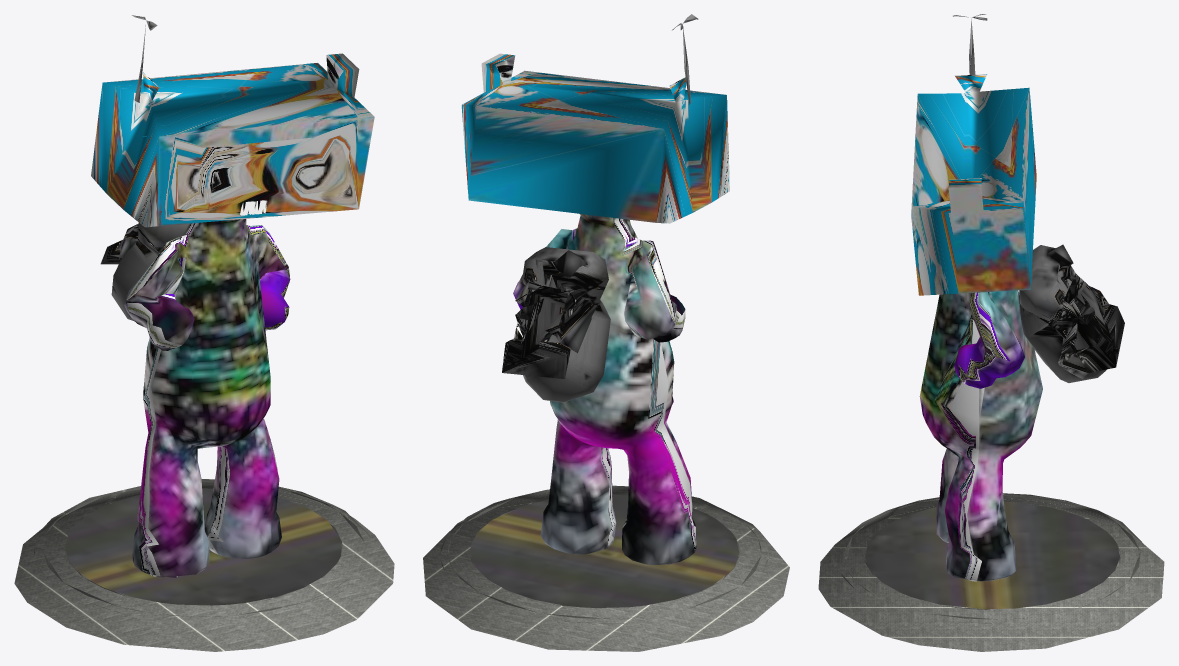
3 renders of one model, left to right at view 1: azimuth 30°, elevation 25°; view 2: azimuth 150°, elevation 25°; view 3: azimuth 270°, elevation 25°, orthographic. The views are drawn at different scales.
Bounding box in the file's own units: 1.44 × 2.41 × 1.42.
7 materials, 5 textured.
